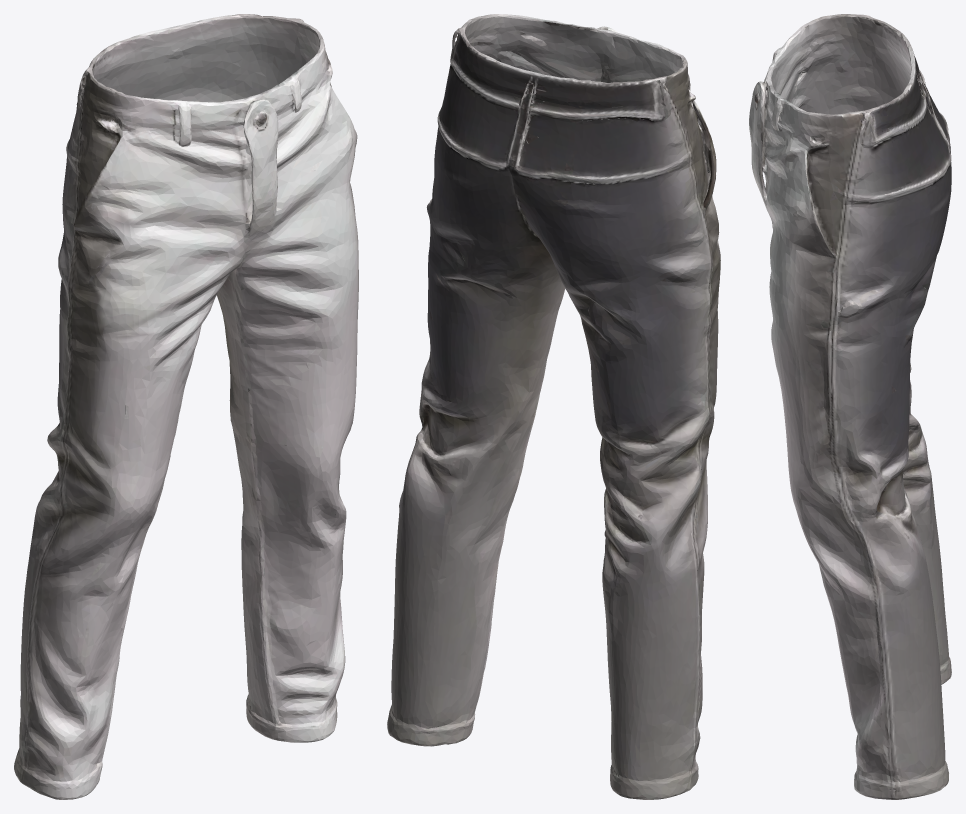
The model's file is pant.glb.
The picture shows the model from 3 angles, left to right: view 1: azimuth 30°, elevation 25°; view 2: azimuth 150°, elevation 25°; view 3: azimuth 270°, elevation 25°; orthographic projection. The views are drawn at different scales.
Visible parts, largest first — view 1: world; view 2: world; view 3: world.
Part boxes in pixels (left/top/right/bottom): world: left=14, top=14, right=358, bottom=799; world: left=387, top=14, right=720, bottom=799; world: left=749, top=14, right=951, bottom=799.
Bounding box in the file's own units: 0.9022 × 1.99 × 0.5458.
1 material, 1 textured.
